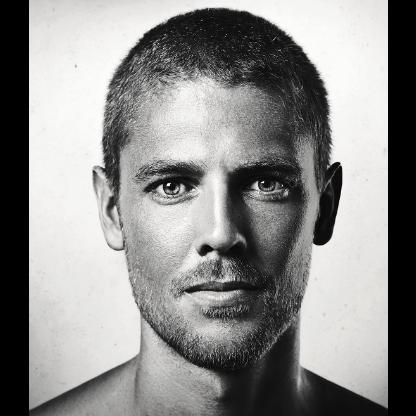Male: (90, 77, 342, 365)
